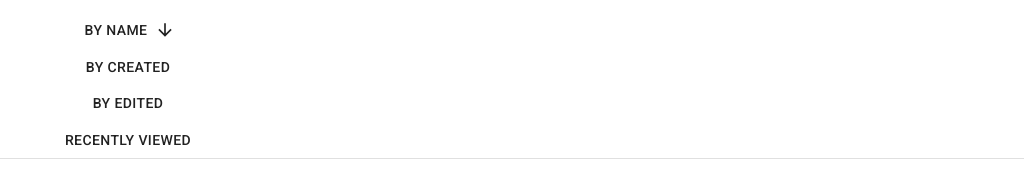
it: the order bar component works properly › changes order properly
Click the button with test id "test_order_by_edited" at (128, 103), box top-left (85, 85), bottom-right (171, 122)
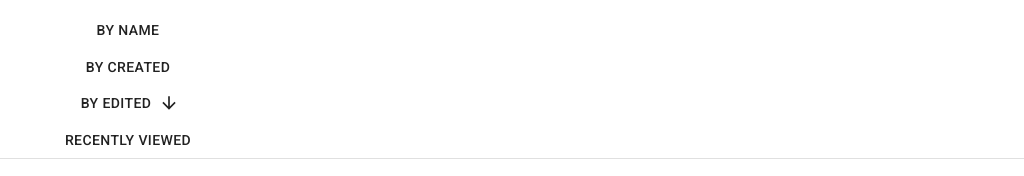
Expected: the icon with test id "test_edited_arrow" is shown, top-left (159, 93), bottom-right (179, 113)
Click the button with test id "test_order_by_created" at (128, 67), box top-left (78, 48), bottom-right (178, 85)
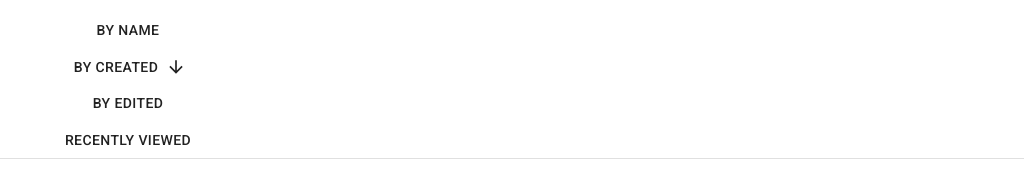
Expected: the icon with test id "test_created_arrow" is shown, top-left (166, 57), bottom-right (186, 77)
